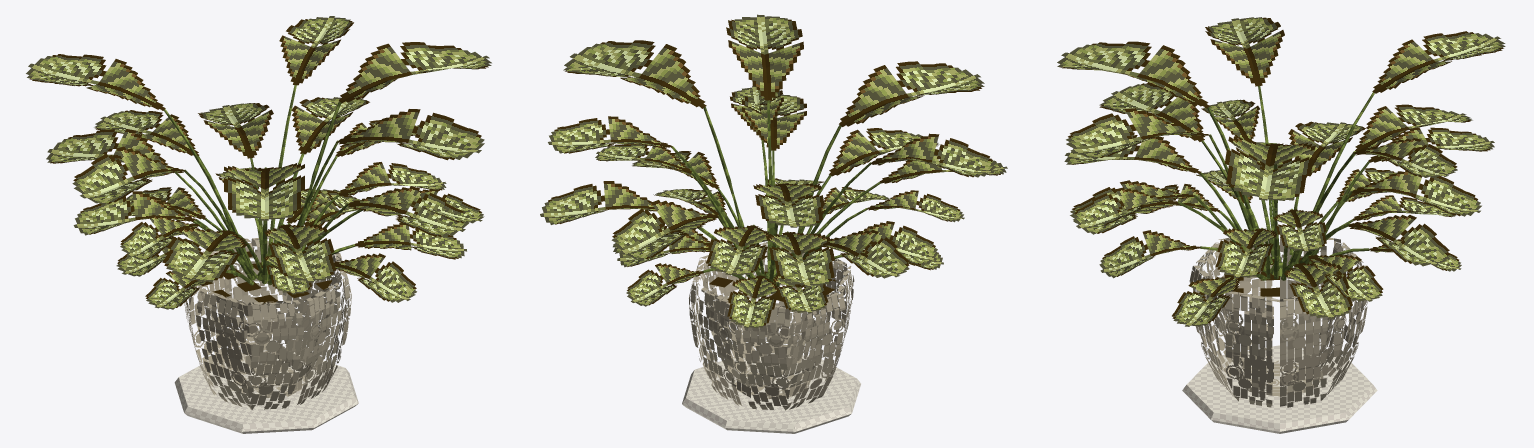
File: calathea.obj
The picture shows the model from 3 angles, left to right: view 1: azimuth 30°, elevation 25°; view 2: azimuth 150°, elevation 25°; view 3: azimuth 270°, elevation 25°; orthographic projection. The views are drawn at different scales.
Parts seen in each view (by area): view 1: Pot, Saucer, Leaf_025, Leaf_019, Leaf_018, Leaf_023, Leaf_014, Leaf_001, Leaf_016, Leaf_012, Leaf_027, Leaf_000 (+17 smaller); view 2: Pot, Saucer, Leaf_019, Leaf_023, Leaf_025, Leaf_000, Leaf_008, Leaf_006, Leaf_014, Leaf_027, Leaf_018, Leaf_007 (+16 smaller); view 3: Pot, Saucer, Leaf_023, Leaf_019, Leaf_018, Leaf_014, Leaf_025, Leaf_006, Leaf_000, Leaf_001, Leaf_004, Leaf_017 (+17 smaller).
Boxes of the visible parts, x1,y1,x2,y2 form: Pot: (182,237,351,409); Saucer: (174,352,358,433); Leaf_025: (336,109,484,160); Leaf_019: (338,42,491,102); Leaf_018: (26,54,165,110); Leaf_023: (224,163,304,220); Leaf_014: (72,146,185,205); Leaf_001: (162,226,247,282); Leaf_016: (264,224,335,282); Leaf_012: (347,186,468,237); Leaf_027: (279,16,353,85); Leaf_000: (198,103,273,158); Pot: (689,242,854,410); Saucer: (682,354,860,433); Leaf_019: (563,40,706,108); Leaf_023: (839,61,984,126); Leaf_025: (726,14,803,100); Leaf_000: (611,200,718,260); Leaf_008: (766,232,834,286); Leaf_006: (540,181,656,224); Leaf_014: (870,133,995,177); Leaf_027: (548,116,672,153); Leaf_018: (753,183,824,227); Leaf_007: (706,225,772,275); Pot: (1189,235,1367,407); Saucer: (1182,345,1377,433); Leaf_023: (1057,41,1209,108); Leaf_019: (1224,136,1315,200); Leaf_018: (1372,31,1505,93); Leaf_014: (1205,17,1284,86); Leaf_025: (1066,108,1209,159); Leaf_006: (1348,215,1449,266); Leaf_000: (1351,170,1481,216); Leaf_001: (1099,82,1205,141); Leaf_004: (1284,262,1352,319); Leaf_017: (1073,187,1178,234).
Size of the model in its own units: 4.66 by 3.25 by 4.39.
